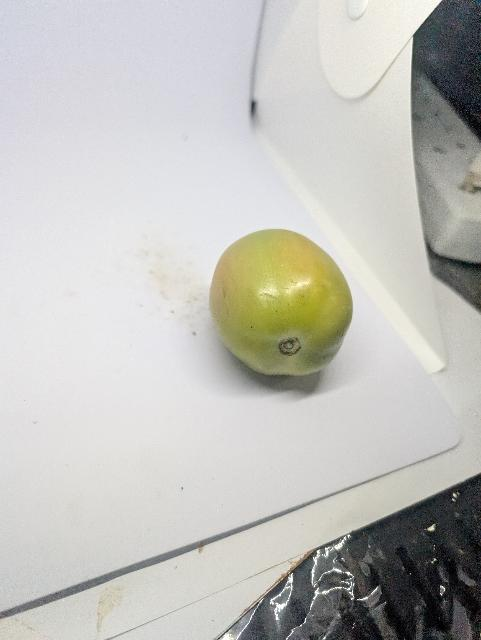breaker: (199, 227, 361, 389)
